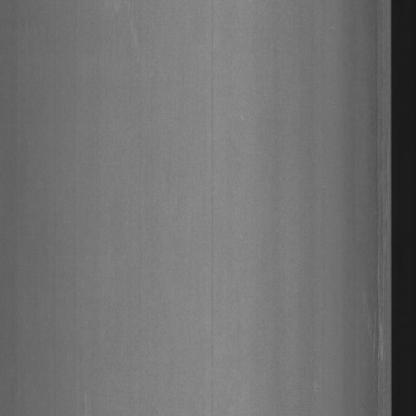silk_spot: (358, 266, 391, 369)
